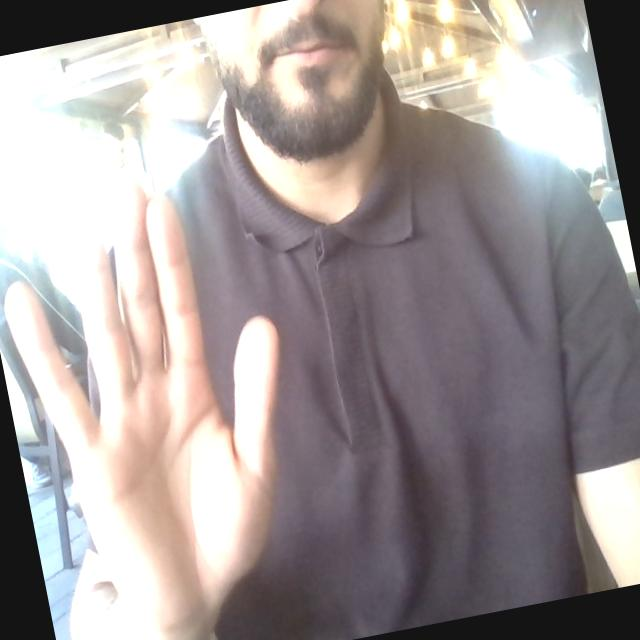Hand: (6, 187, 277, 639)
